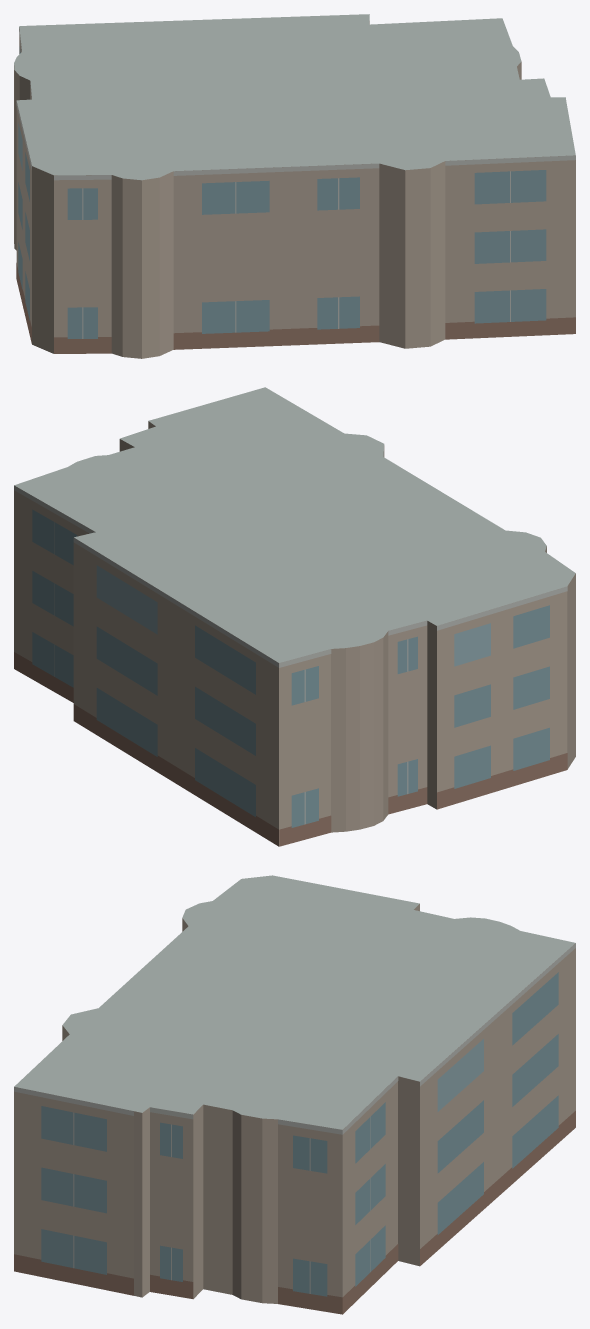
The model's file is survey-upis-32602873.glb.
The picture shows the model from 3 angles, top to bottom: view 1: azimuth 30°, elevation 25°; view 2: azimuth 150°, elevation 25°; view 3: azimuth 270°, elevation 25°; orthographic projection. The views are drawn at different scales.
Visible parts, largest first — view 1: survey-upis-32602873.tmp; view 2: survey-upis-32602873.tmp; view 3: survey-upis-32602873.tmp.
Part boxes in pixels (x1,y1,x2,y2): survey-upis-32602873.tmp: [14, 14, 575, 358]; survey-upis-32602873.tmp: [14, 387, 575, 846]; survey-upis-32602873.tmp: [14, 875, 575, 1314].
Bounding box in the file's own units: 27.05 × 9.15 × 25.24.
